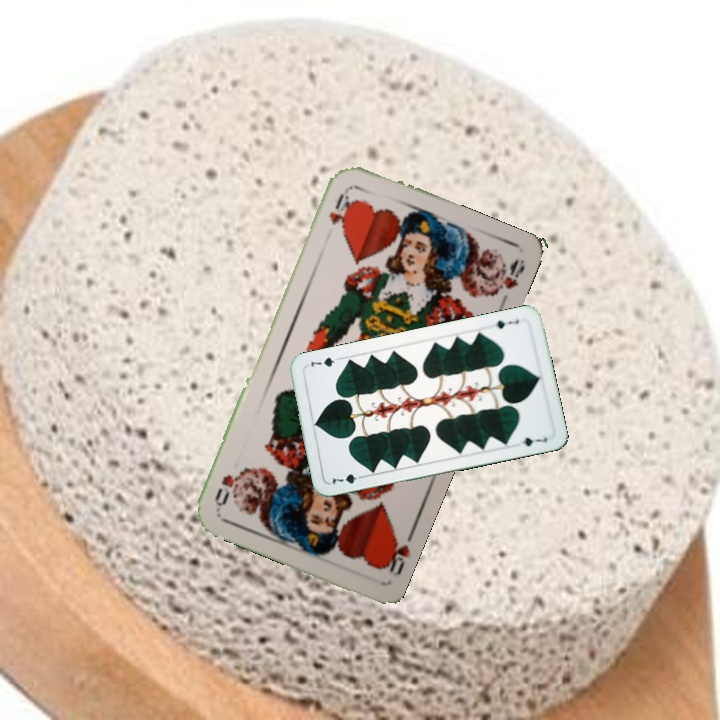G7: (328, 470, 367, 487), (491, 315, 522, 331)
HO: (376, 525, 418, 579), (325, 184, 356, 230)
